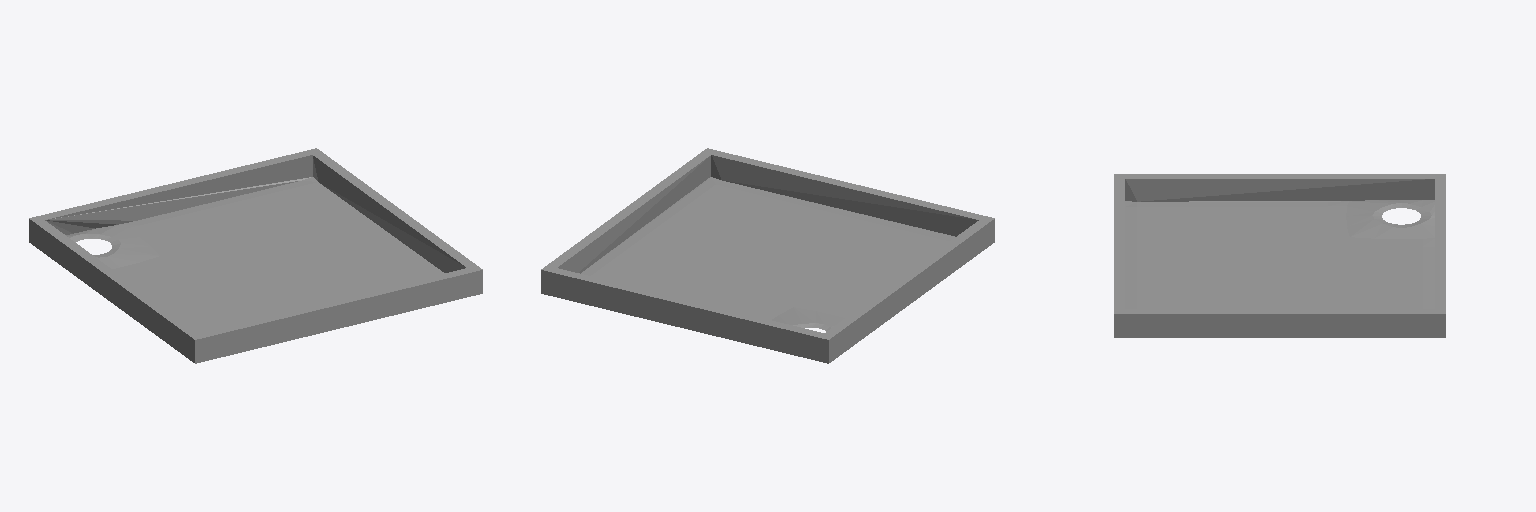
File: sink.obj
3 renders of one model, left to right at view 1: azimuth 30°, elevation 25°; view 2: azimuth 150°, elevation 25°; view 3: azimuth 270°, elevation 25°, orthographic.
Size of the model in its own units: 5.05 by 0.4 by 5.05.